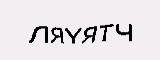Л: (26, 25, 49, 44)
Т: (98, 23, 114, 43)
Ч: (114, 22, 135, 43)
Я: (47, 26, 66, 44), (79, 24, 96, 44)
Ү: (64, 27, 81, 45)
